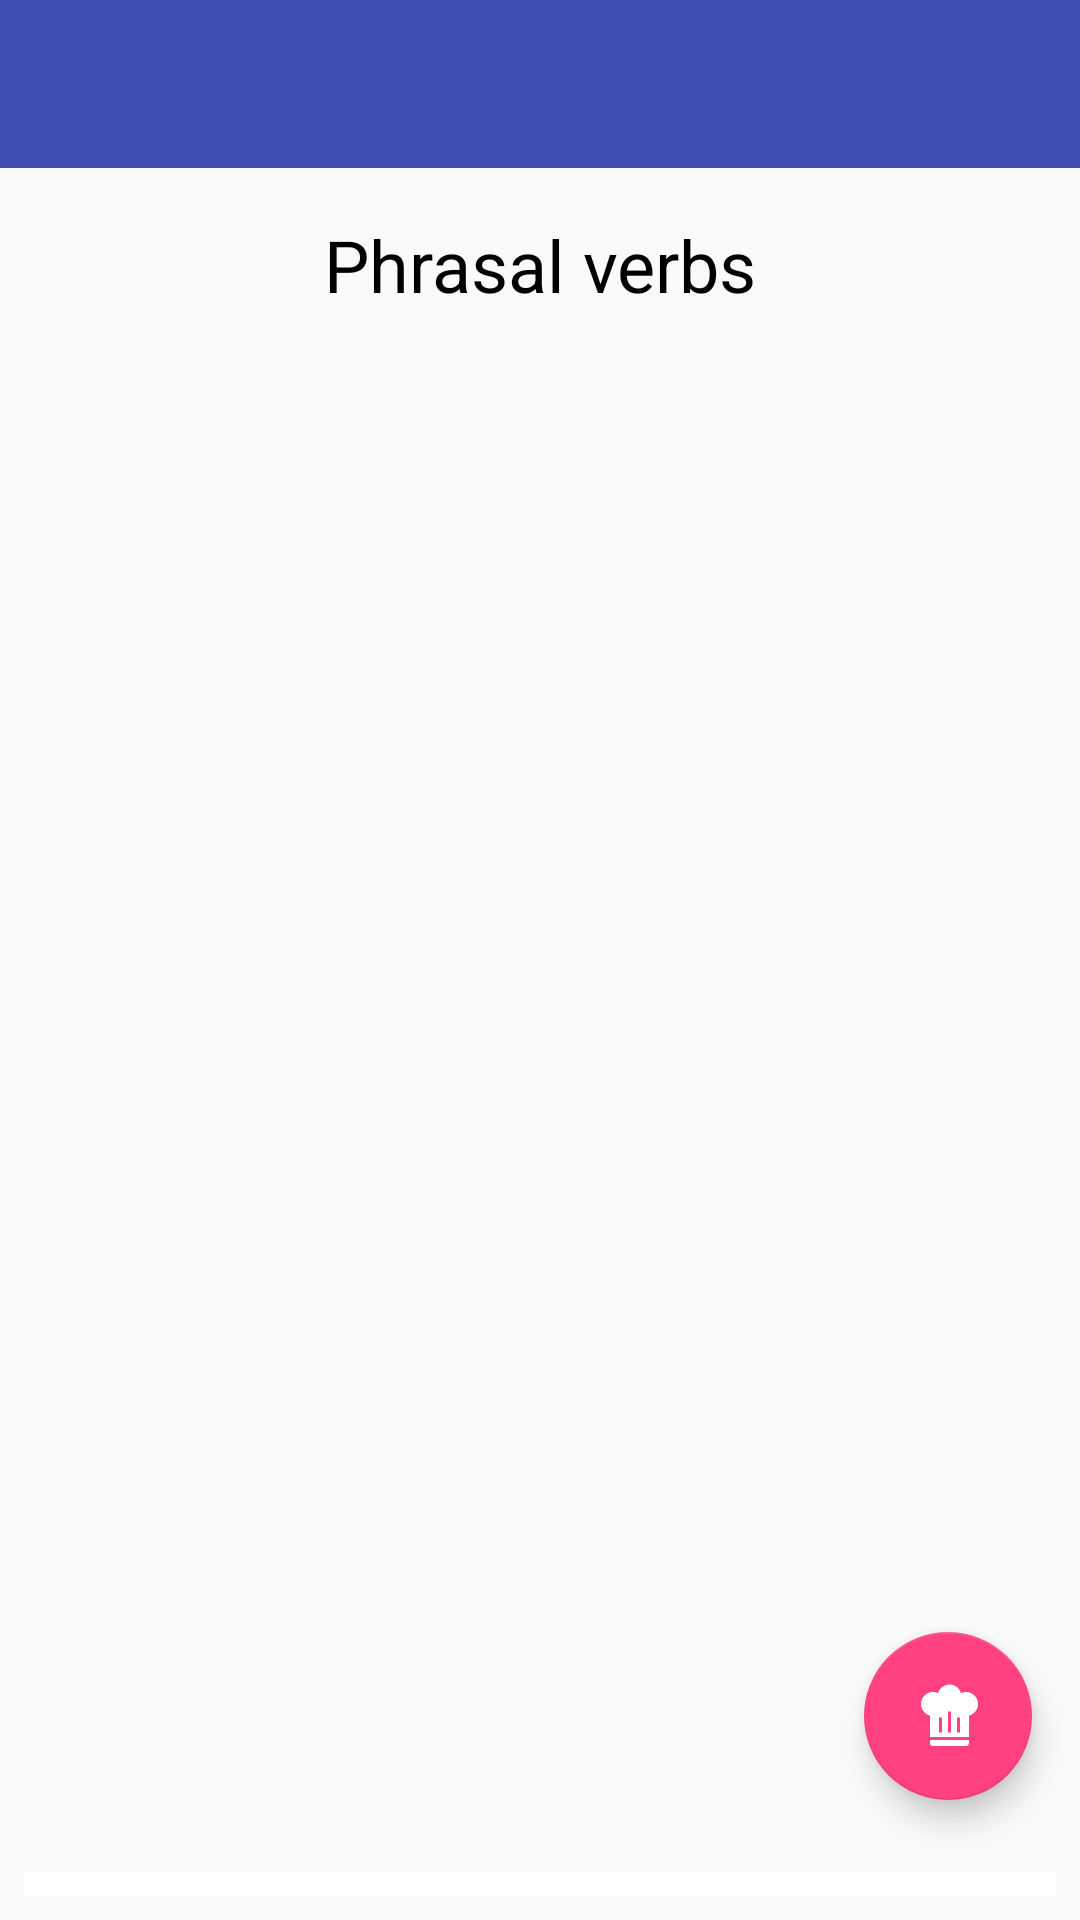

Point at icon controls on the screen. Image size 1080px×1920px, points as (x=x, y=y).
chef hat: (x=948, y=1716)
